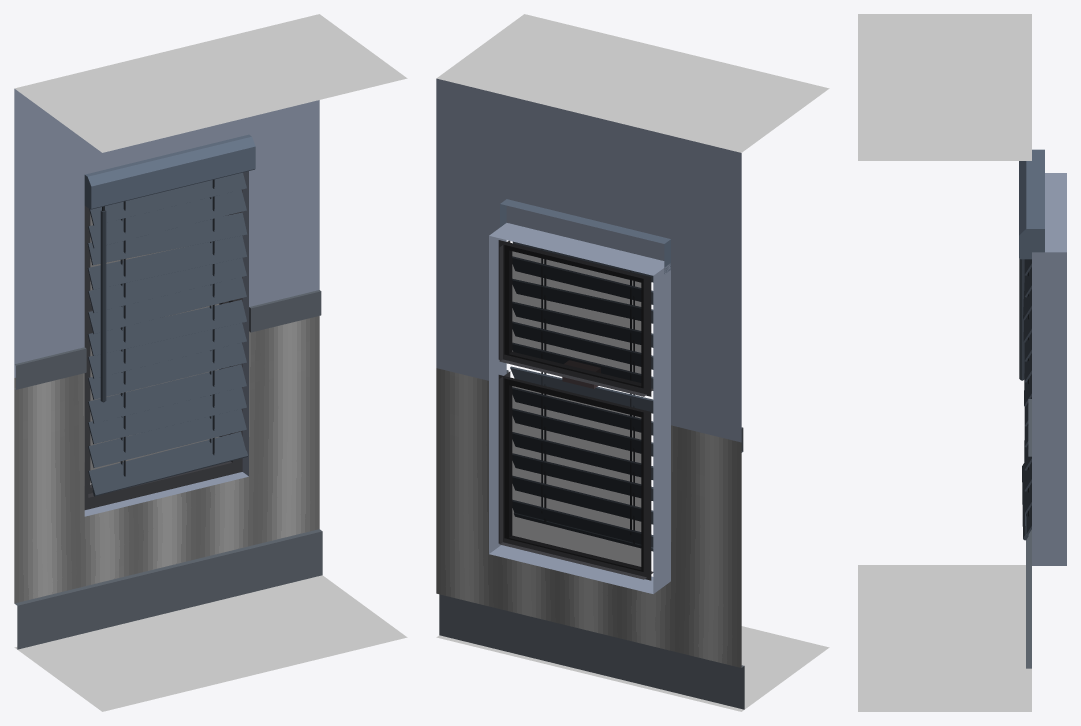
File: roomA_wallWindow_mdl.fbx
3 renders of one model, left to right at view 1: azimuth 30°, elevation 25°; view 2: azimuth 150°, elevation 25°; view 3: azimuth 270°, elevation 25°, orthographic.
Visible parts, largest first — view 1: polySurface11, polySurface3, polySurface1; view 2: polySurface11, polySurface3, polySurface1; view 3: polySurface3, polySurface1, polySurface11.
Part boxes in pixels (x1,y1,x2,y2): polySurface11: (14, 89, 322, 649); polySurface3: (14, 14, 407, 152); polySurface1: (14, 575, 407, 711); polySurface11: (436, 78, 744, 709); polySurface3: (436, 14, 829, 152); polySurface1: (436, 626, 829, 711); polySurface3: (858, 14, 1031, 160); polySurface1: (858, 565, 1031, 711); polySurface11: (1019, 149, 1066, 668).
Size of the model in its own units: 2 by 3.5 by 1.2.
